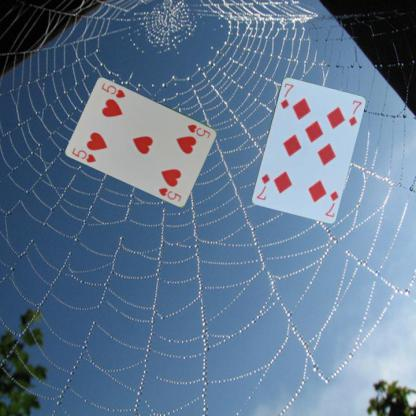5h: (69, 145, 98, 164), (185, 121, 212, 140)
7d: (322, 188, 340, 218), (278, 80, 295, 110)
